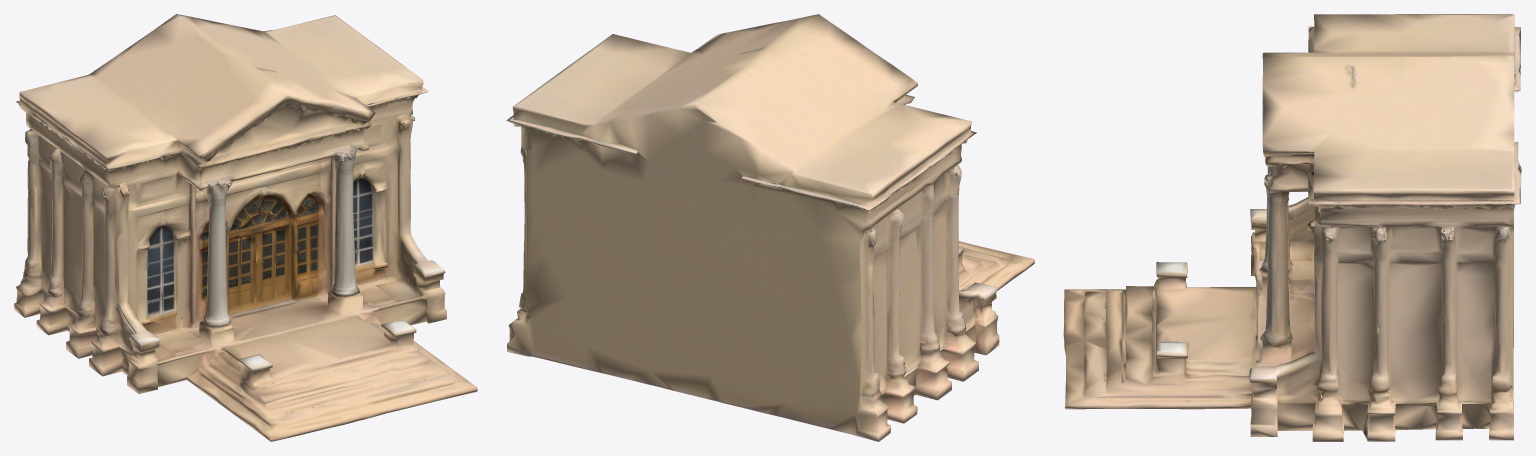
File: museum_building.glb
The picture shows the model from 3 angles, left to right: view 1: azimuth 30°, elevation 25°; view 2: azimuth 150°, elevation 25°; view 3: azimuth 270°, elevation 25°; orthographic projection. The views are drawn at different scales.
Visible parts, largest first — view 1: museum_building; view 2: museum_building; view 3: museum_building.
Boxes of the visible parts, <box> form: museum_building: <box>14,14,477,441</box>; museum_building: <box>506,14,1034,441</box>; museum_building: <box>1063,14,1521,441</box>.
Bounding box in the file's own units: 1.88 × 1.42 × 2.
Materials: 1 (1 with a texture image).
